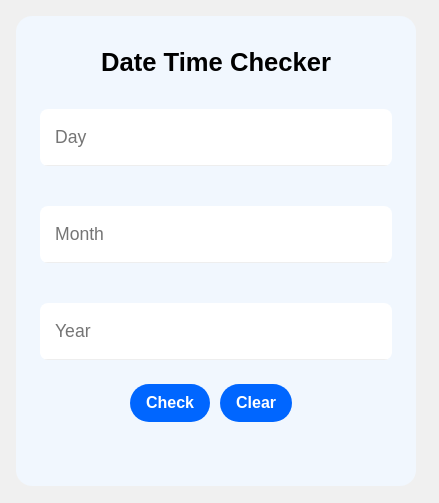
Test: Date Time Checker App › UTCID07
Type "30" into the field with placeholder "Day" at [231, 138], box [40,109,422,166]
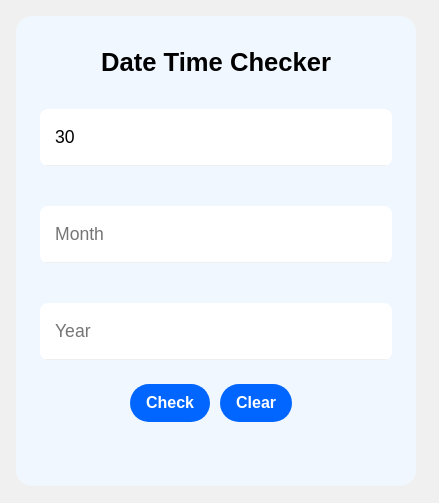
Type "3" into the field with placeholder "Month" at [231, 234], box [40,206,422,263]
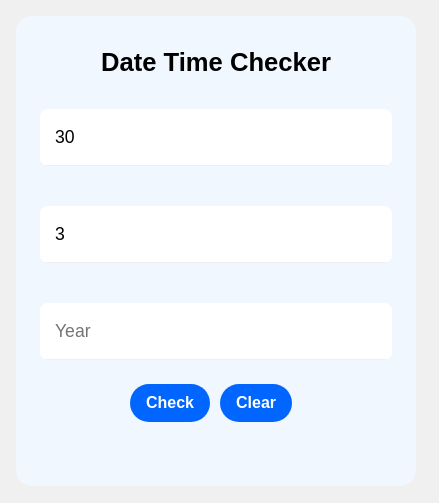
Type "2000" into the field with placeholder "Year" at [231, 332], box [40,303,422,360]
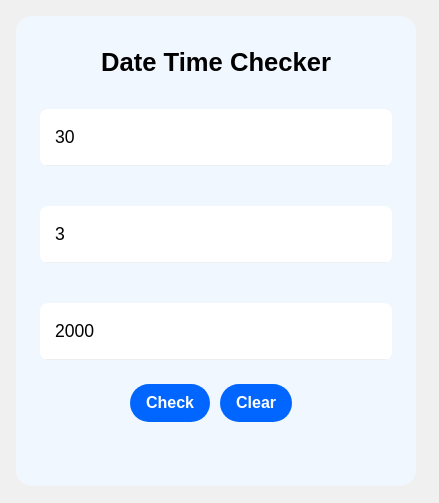
Click the button "Clear" at [256, 403], box [220,384,292,422]
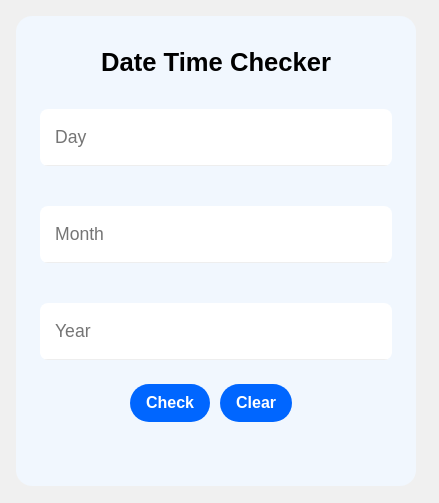
Expected: the field with placeholder "Day" is empty, [40,109,392,166]
Expected: the field with placeholder "Month" is empty, [40,206,392,263]
Expected: the field with placeholder "Year" is empty, [40,303,392,360]
